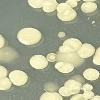white: (17, 26, 43, 46), (54, 2, 77, 22), (7, 71, 29, 87), (29, 54, 49, 71), (53, 59, 74, 74), (76, 42, 94, 59), (67, 50, 83, 67), (64, 79, 81, 94), (82, 67, 100, 81), (40, 90, 64, 100), (41, 0, 58, 14), (56, 45, 70, 61), (64, 38, 80, 51), (80, 2, 97, 14), (58, 85, 72, 99), (44, 51, 57, 64), (92, 46, 100, 66), (0, 77, 11, 91), (27, 0, 43, 9), (70, 92, 87, 100), (0, 33, 7, 50), (80, 81, 91, 91), (66, 0, 79, 8), (86, 92, 99, 100), (0, 64, 7, 78), (82, 90, 94, 97), (58, 31, 67, 39), (82, 0, 98, 4)
